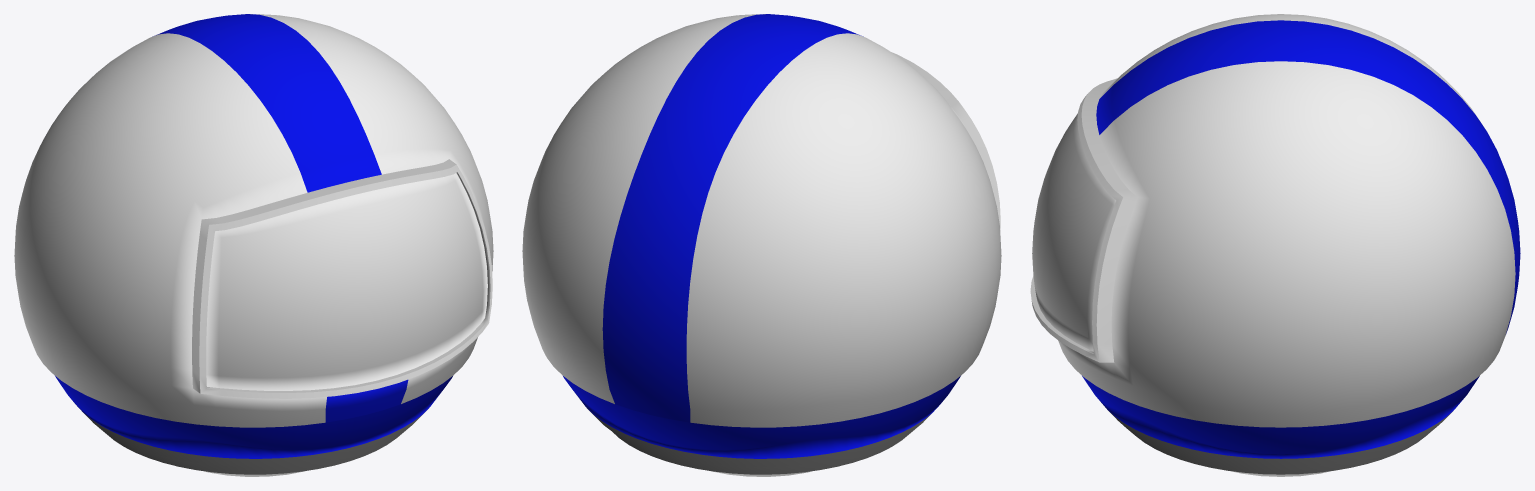
Rendered from quantum_zero_height.fbx.
The picture shows the model from 3 angles, left to right: view 1: azimuth 30°, elevation 25°; view 2: azimuth 150°, elevation 25°; view 3: azimuth 270°, elevation 25°; orthographic projection.
Visible parts, largest first — view 1: Top, Screen, Bottom; view 2: Top, Bottom; view 3: Top, Bottom, Screen.
Boxes of the visible parts, left/top/right/bottom form: Top: left=14, top=14, right=493, bottom=427; Screen: left=206, top=173, right=487, bottom=390; Bottom: left=55, top=376, right=452, bottom=476; Top: left=522, top=14, right=1001, bottom=427; Bottom: left=563, top=376, right=960, bottom=476; Top: left=1030, top=14, right=1520, bottom=427; Bottom: left=1082, top=376, right=1479, bottom=476; Screen: left=1032, top=113, right=1116, bottom=351.
Bounding box in the file's own units: 0.4757 × 0.4591 × 0.4865.
